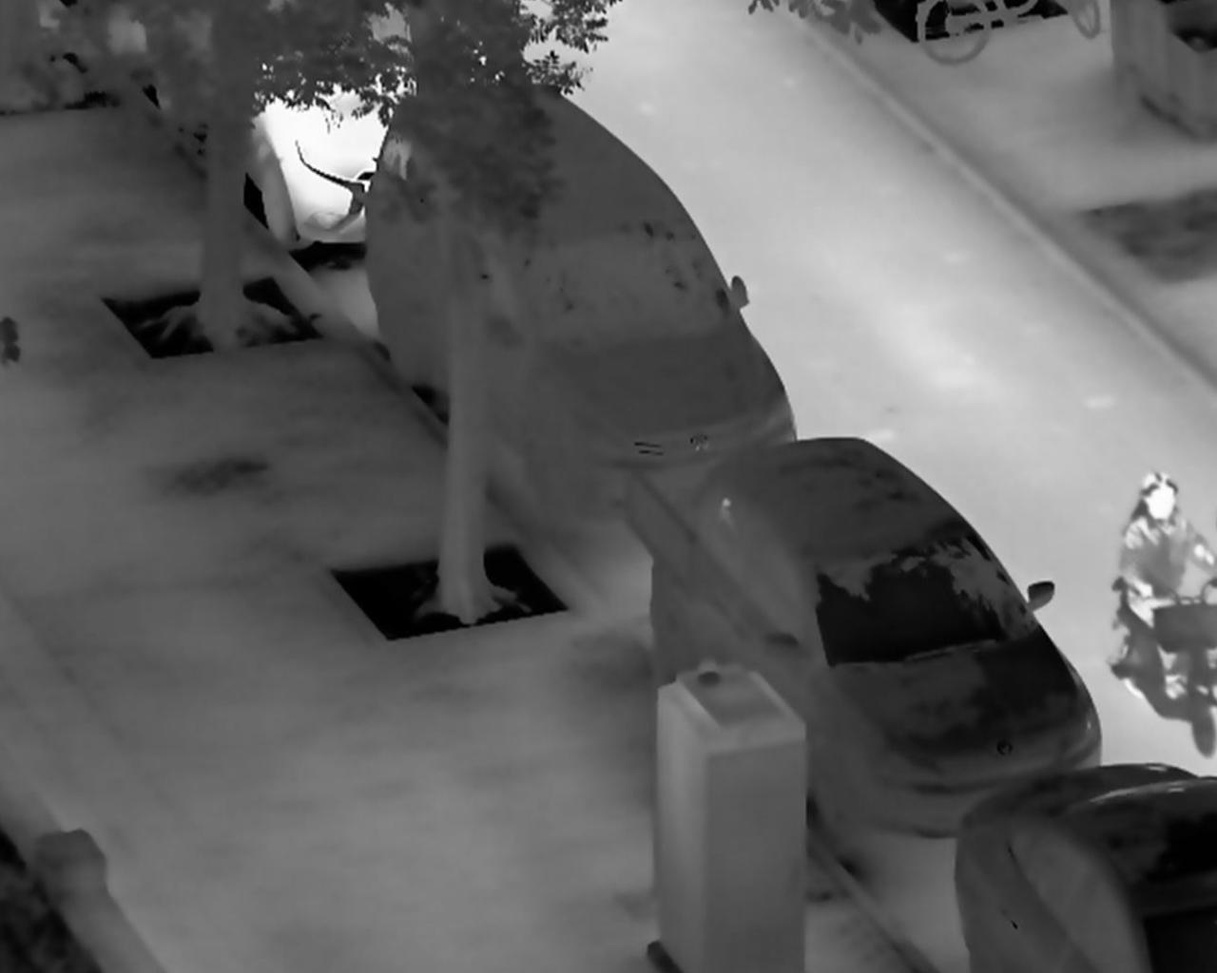person: (1121, 470, 1217, 703)
